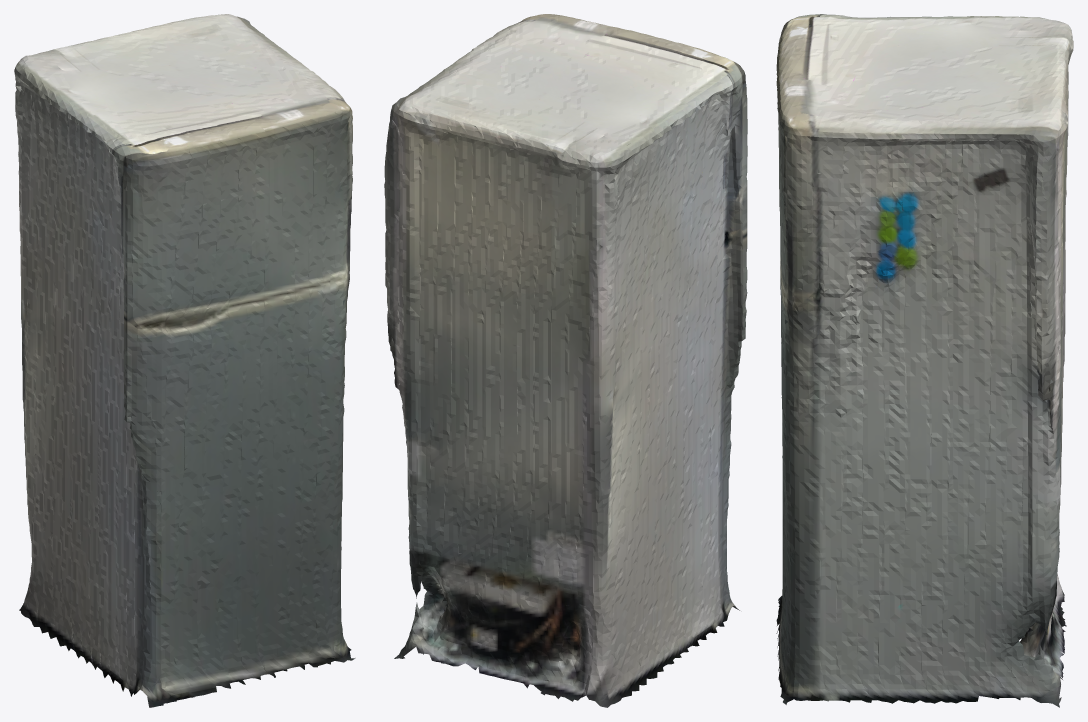
Rendered from nomal-refrigerator.fbx.
3 renders of one model, left to right at view 1: azimuth 30°, elevation 25°; view 2: azimuth 150°, elevation 25°; view 3: azimuth 270°, elevation 25°, orthographic. The views are drawn at different scales.
Visible parts, largest first — view 1: textured_output; view 2: textured_output; view 3: textured_output.
Part boxes in pixels (x1,y1,x2,y2): textured_output: (14, 14, 355, 707); textured_output: (384, 14, 747, 707); textured_output: (776, 14, 1073, 707).
Bounding box in the file's own units: 51.88 × 113 × 51.89.
